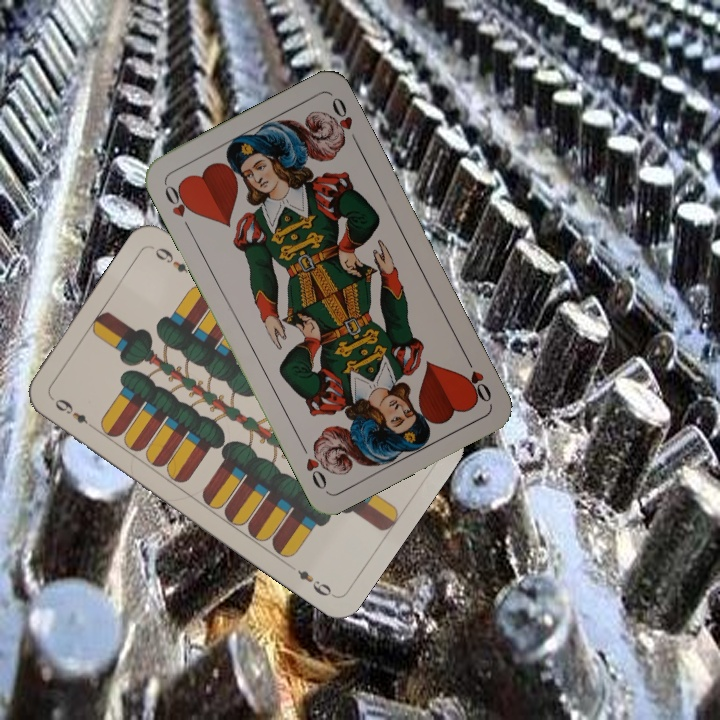E9: (50, 394, 91, 426)
HO: (160, 180, 198, 234), (460, 351, 494, 405)
